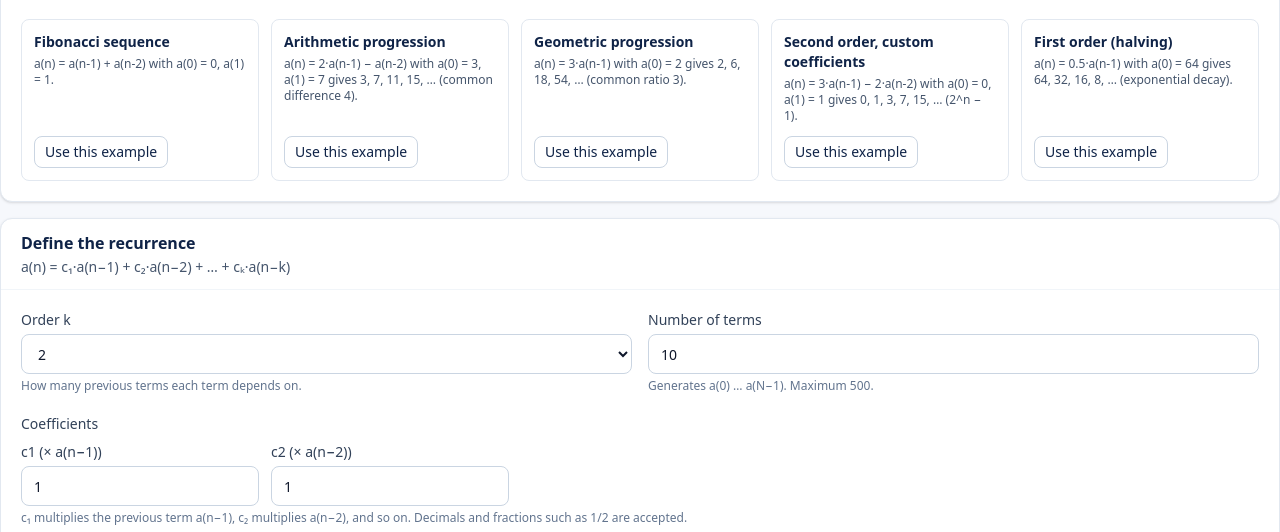
Test case: Recurrence Lab › steps forwards and backwards through the calculation
Click the button with aria-label "use example: fibonacci sequence" at {"x": 101, "y": 152}, box [34,136,168,168]
(page scrolled)
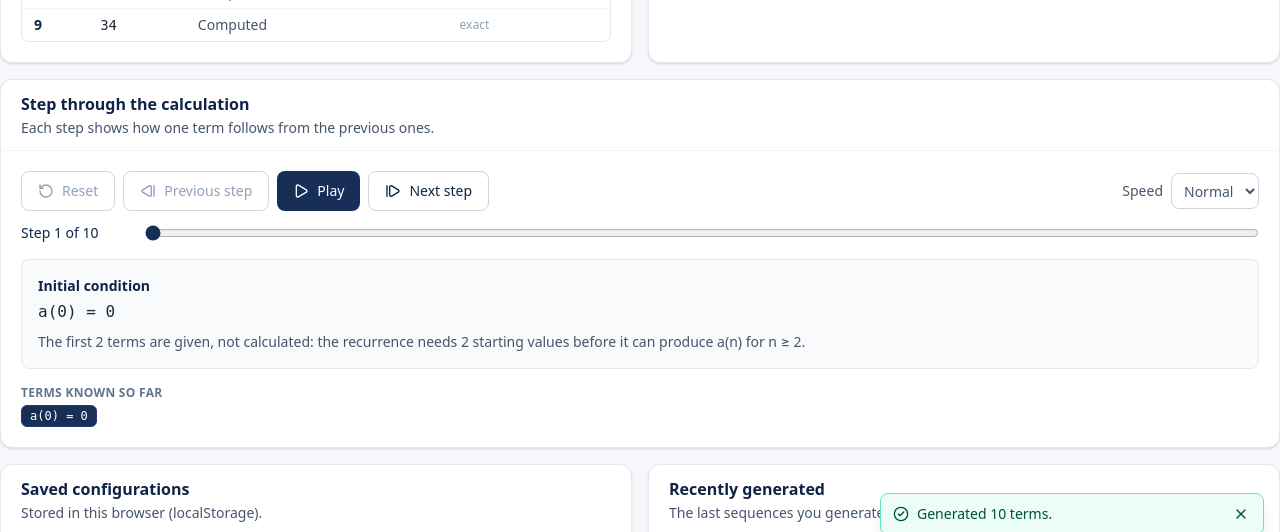
Expected: the element with test id "recurrence-step" shows "a(0) = 0", [21,259,1259,369]
Click the button "Next step" at {"x": 429, "y": 191}, box [368,171,489,211]
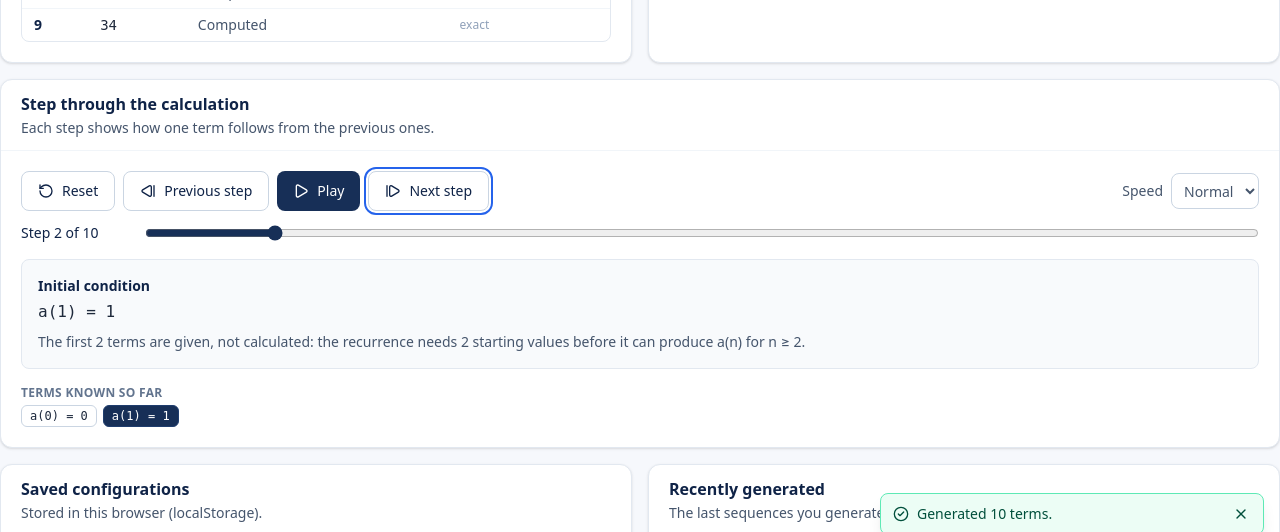
Click the button "Next step" at {"x": 429, "y": 191}, box [368,171,489,211]
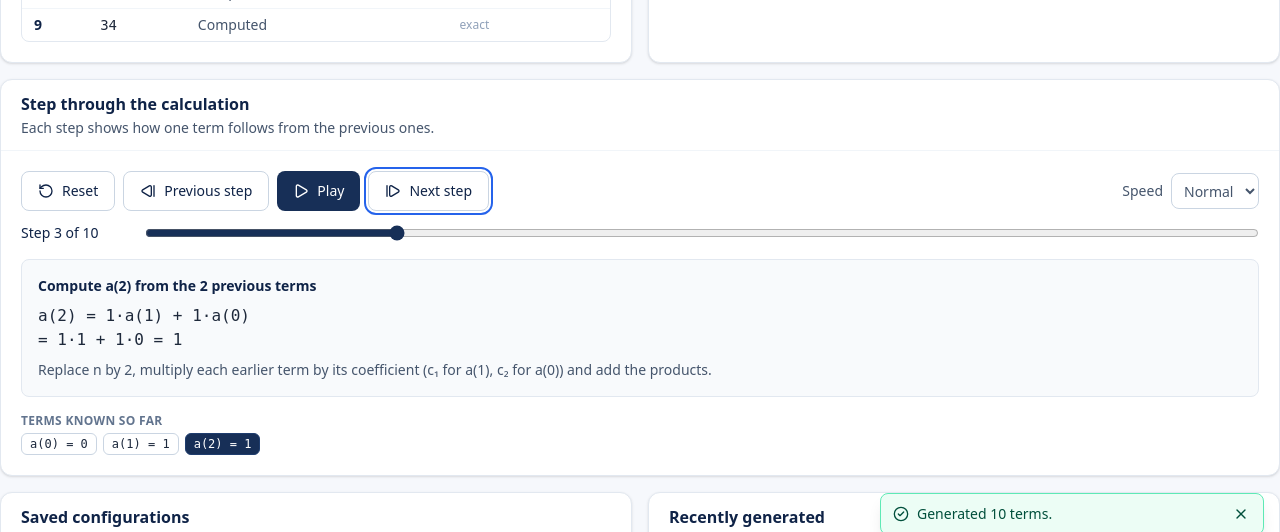
Expected: the element with test id "recurrence-step" shows "a(2) = 1·a(1) + 1·a(0)", [38,306,250,325]
Expected: the element with test id "recurrence-step" shows "= 1·1 + 1·0 = 1", [38,330,182,349]
Click the button "Previous step" at {"x": 196, "y": 191}, box [123,171,269,211]
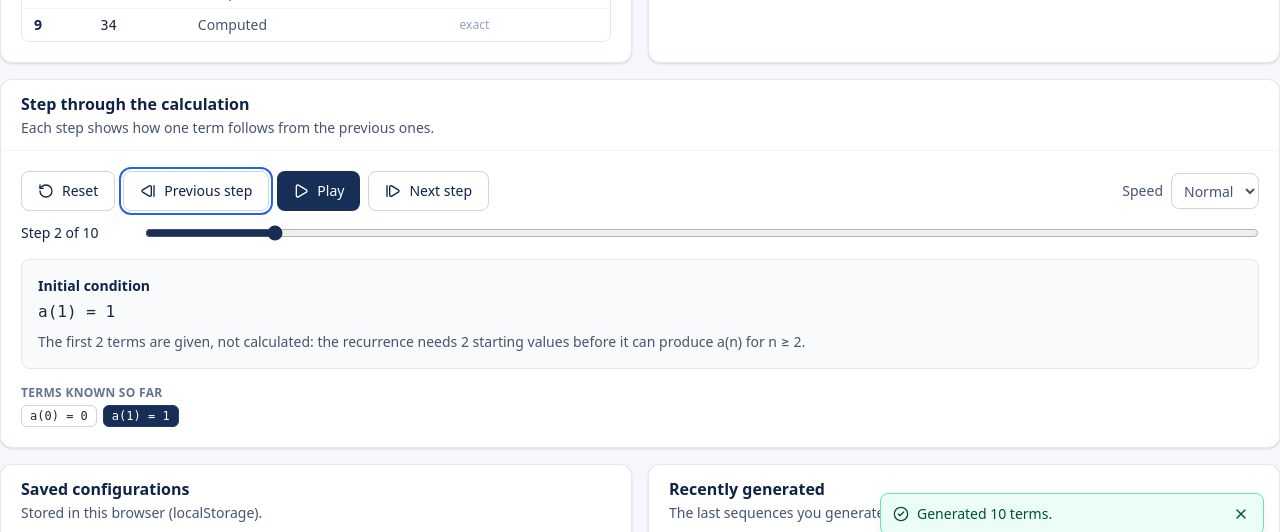
Expected: the element with test id "recurrence-step" shows "a(1) = 1", [21,259,1259,369]
